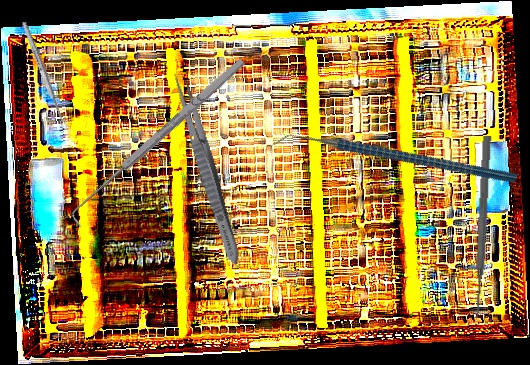Chopper: (270, 59, 519, 262)
Dressing Forceps: (167, 69, 247, 269)
Hook Surgical: (65, 55, 253, 228)
Pusher: (471, 135, 493, 319)
Surgical Spoon: (20, 20, 69, 132)
